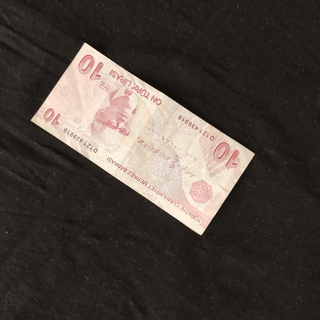10TLBack: (29, 40, 257, 237)
